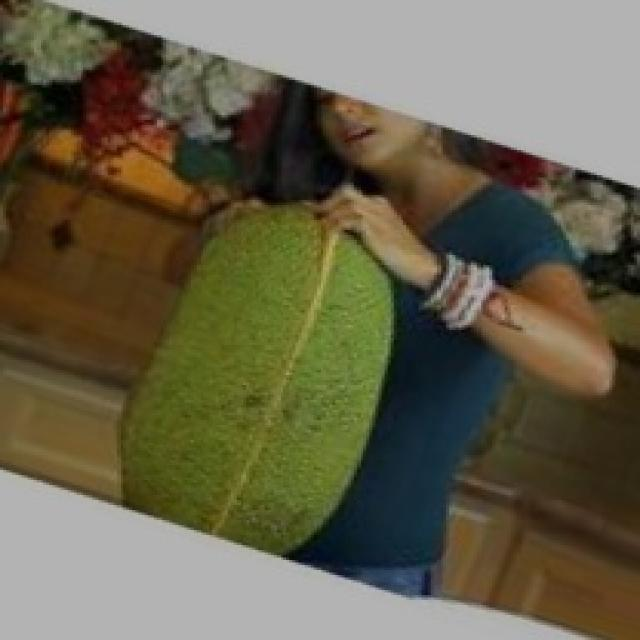Fruit: (74, 167, 455, 575)
